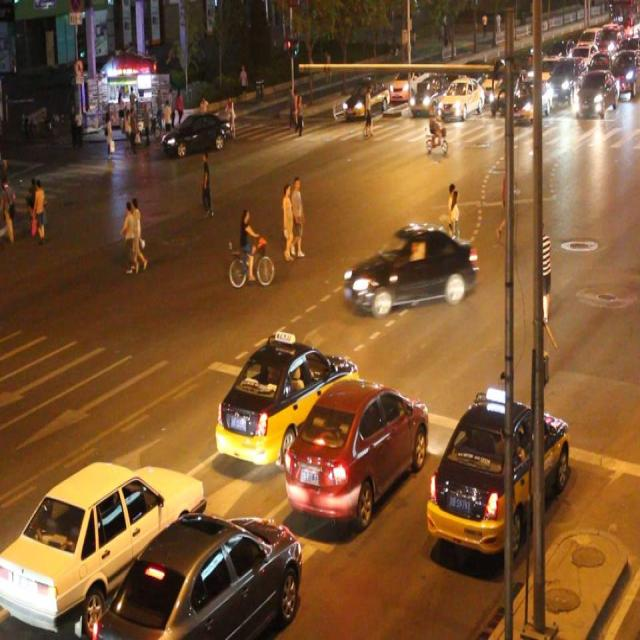car: (1, 456, 207, 628), (98, 515, 300, 640), (425, 394, 568, 558), (287, 382, 426, 526), (216, 330, 356, 464), (341, 225, 477, 312), (160, 112, 233, 152), (342, 76, 390, 117), (435, 77, 483, 116), (409, 68, 446, 112)
